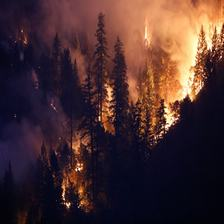fire: (164, 6, 223, 100), (54, 133, 107, 215), (141, 96, 194, 151), (138, 10, 164, 76), (97, 74, 119, 134), (15, 24, 39, 54)
